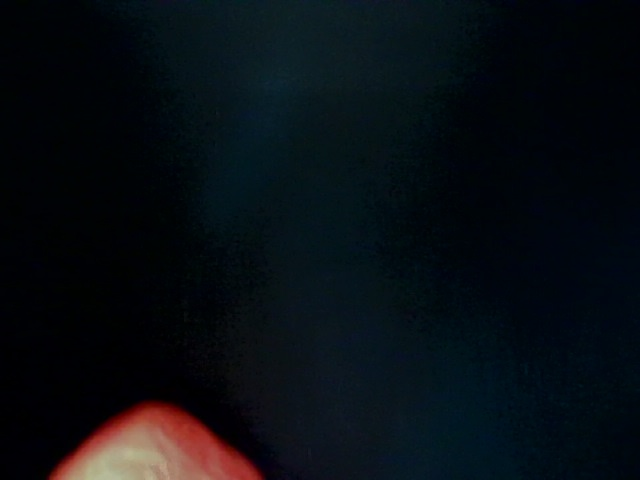YHLJ: (413, 389, 507, 480)
